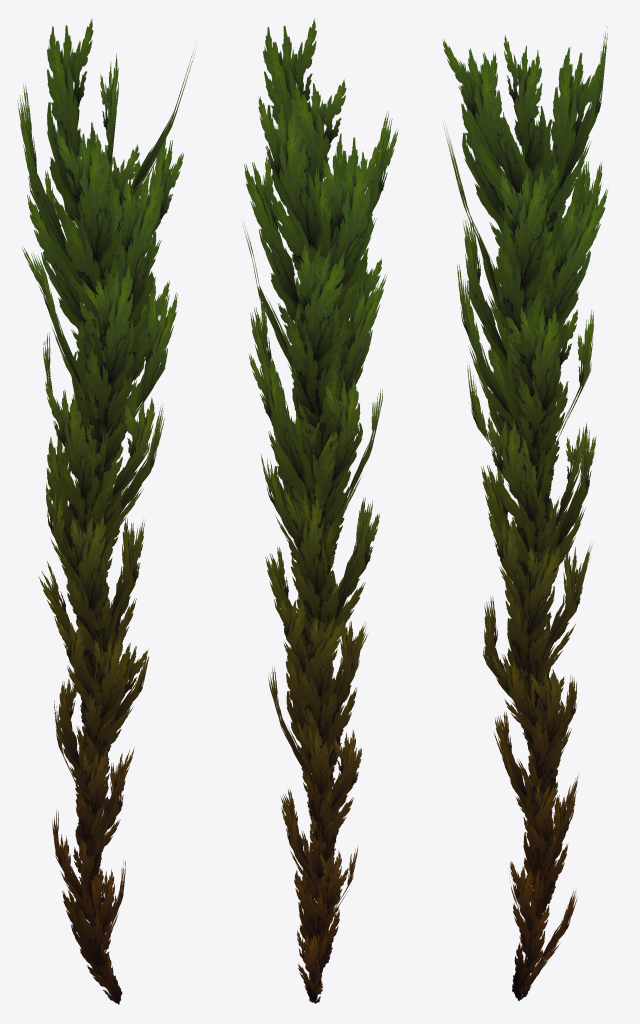
File: SeaWeed01_LOD1_FattooCreater.glb
3 views of the same model, side by side, from view 1: azimuth 30°, elevation 25°; view 2: azimuth 150°, elevation 25°; view 3: azimuth 270°, elevation 25° (orthographic). The views are drawn at different scales.
Visible parts, largest first — view 1: SeaWeed01_high; view 2: SeaWeed01_high; view 3: SeaWeed01_high.
Boxes of the visible parts, x1,y1,x2,y2 form: SeaWeed01_high: (17,18,196,1004); SeaWeed01_high: (242,18,398,1003); SeaWeed01_high: (442,27,607,1000).
Bounding box in the file's own units: 0.2202 × 1.24 × 0.2225.
Materials: 1 (1 with a texture image).
